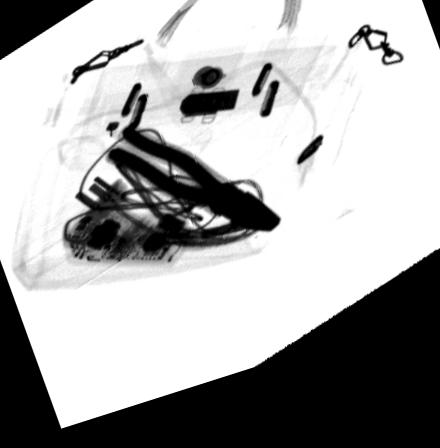Pliers: (106, 132, 283, 252)
